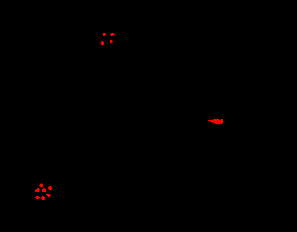Target: (208, 119, 223, 124), (35, 188, 40, 192), (39, 183, 43, 187), (48, 186, 52, 190), (42, 188, 46, 192), (41, 196, 45, 200), (110, 33, 115, 36), (46, 194, 51, 197), (35, 196, 40, 199), (101, 41, 104, 45), (103, 33, 106, 36), (110, 40, 113, 43)
